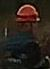helmet: (14, 4, 41, 26)
vest: (3, 31, 42, 68)
